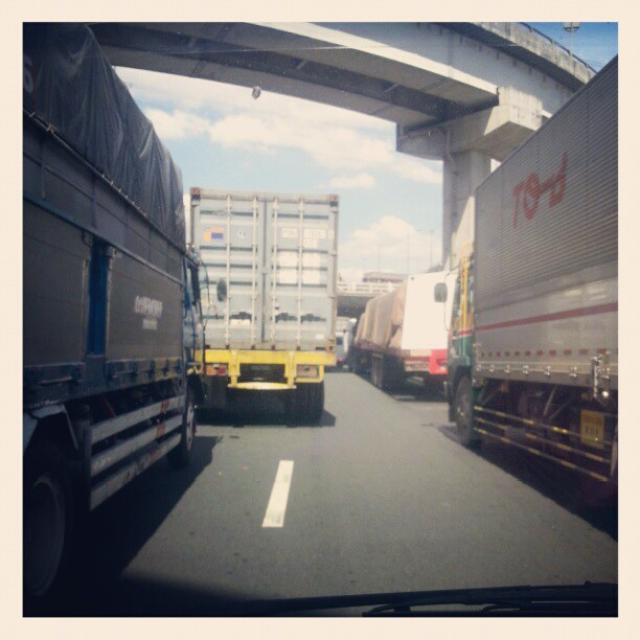Vehicle: (26, 27, 209, 612), (434, 59, 620, 484), (193, 190, 339, 423), (346, 272, 449, 395)
